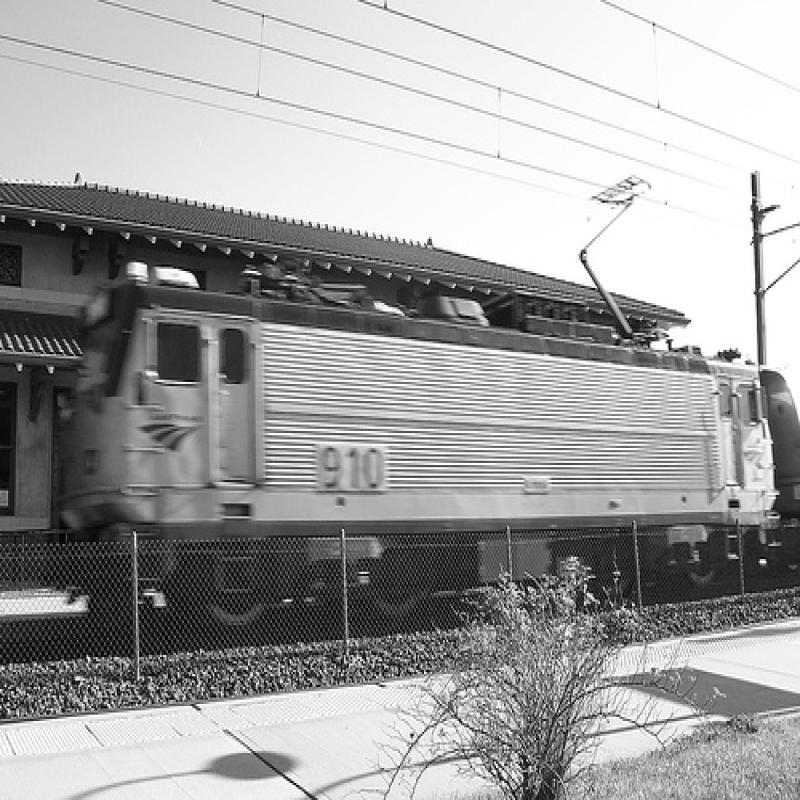train: (60, 255, 777, 624)
